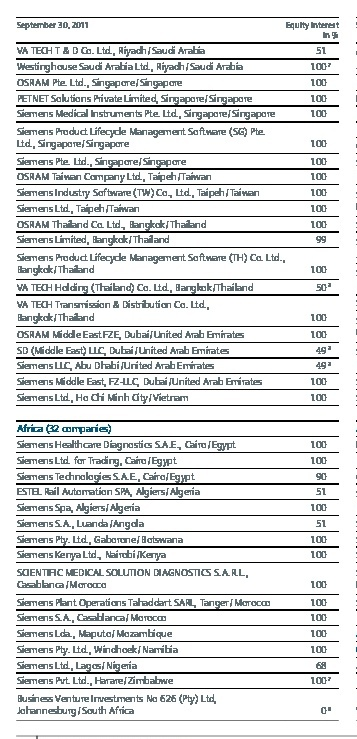table: (0, 0, 357, 739)
